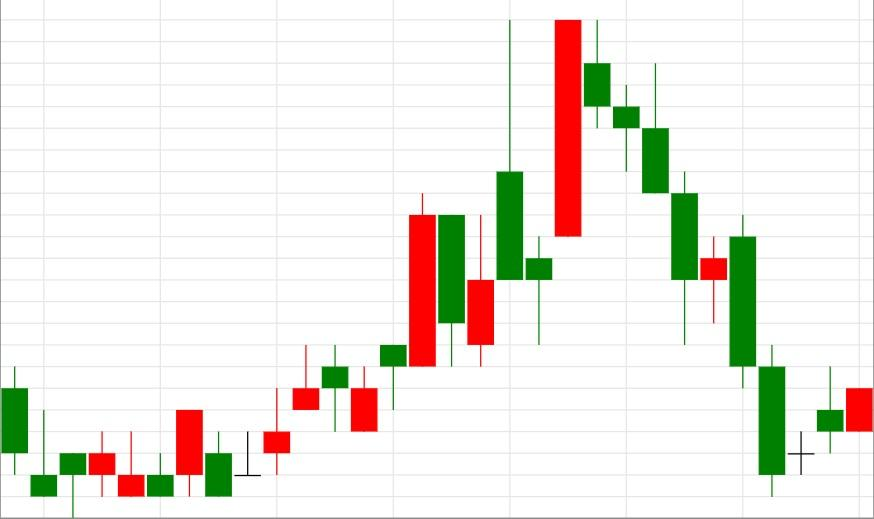three_black_crows_fall: (351, 20, 669, 432)
